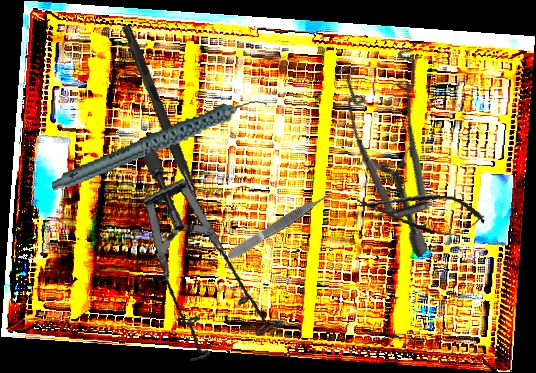Handpiece: (43, 96, 276, 192)
Hook Surgical: (118, 23, 217, 233)
Micro Scissor: (353, 183, 488, 242)
Speculum: (291, 25, 518, 259), (113, 147, 299, 373)
Tissue Forceps: (225, 190, 333, 262)
